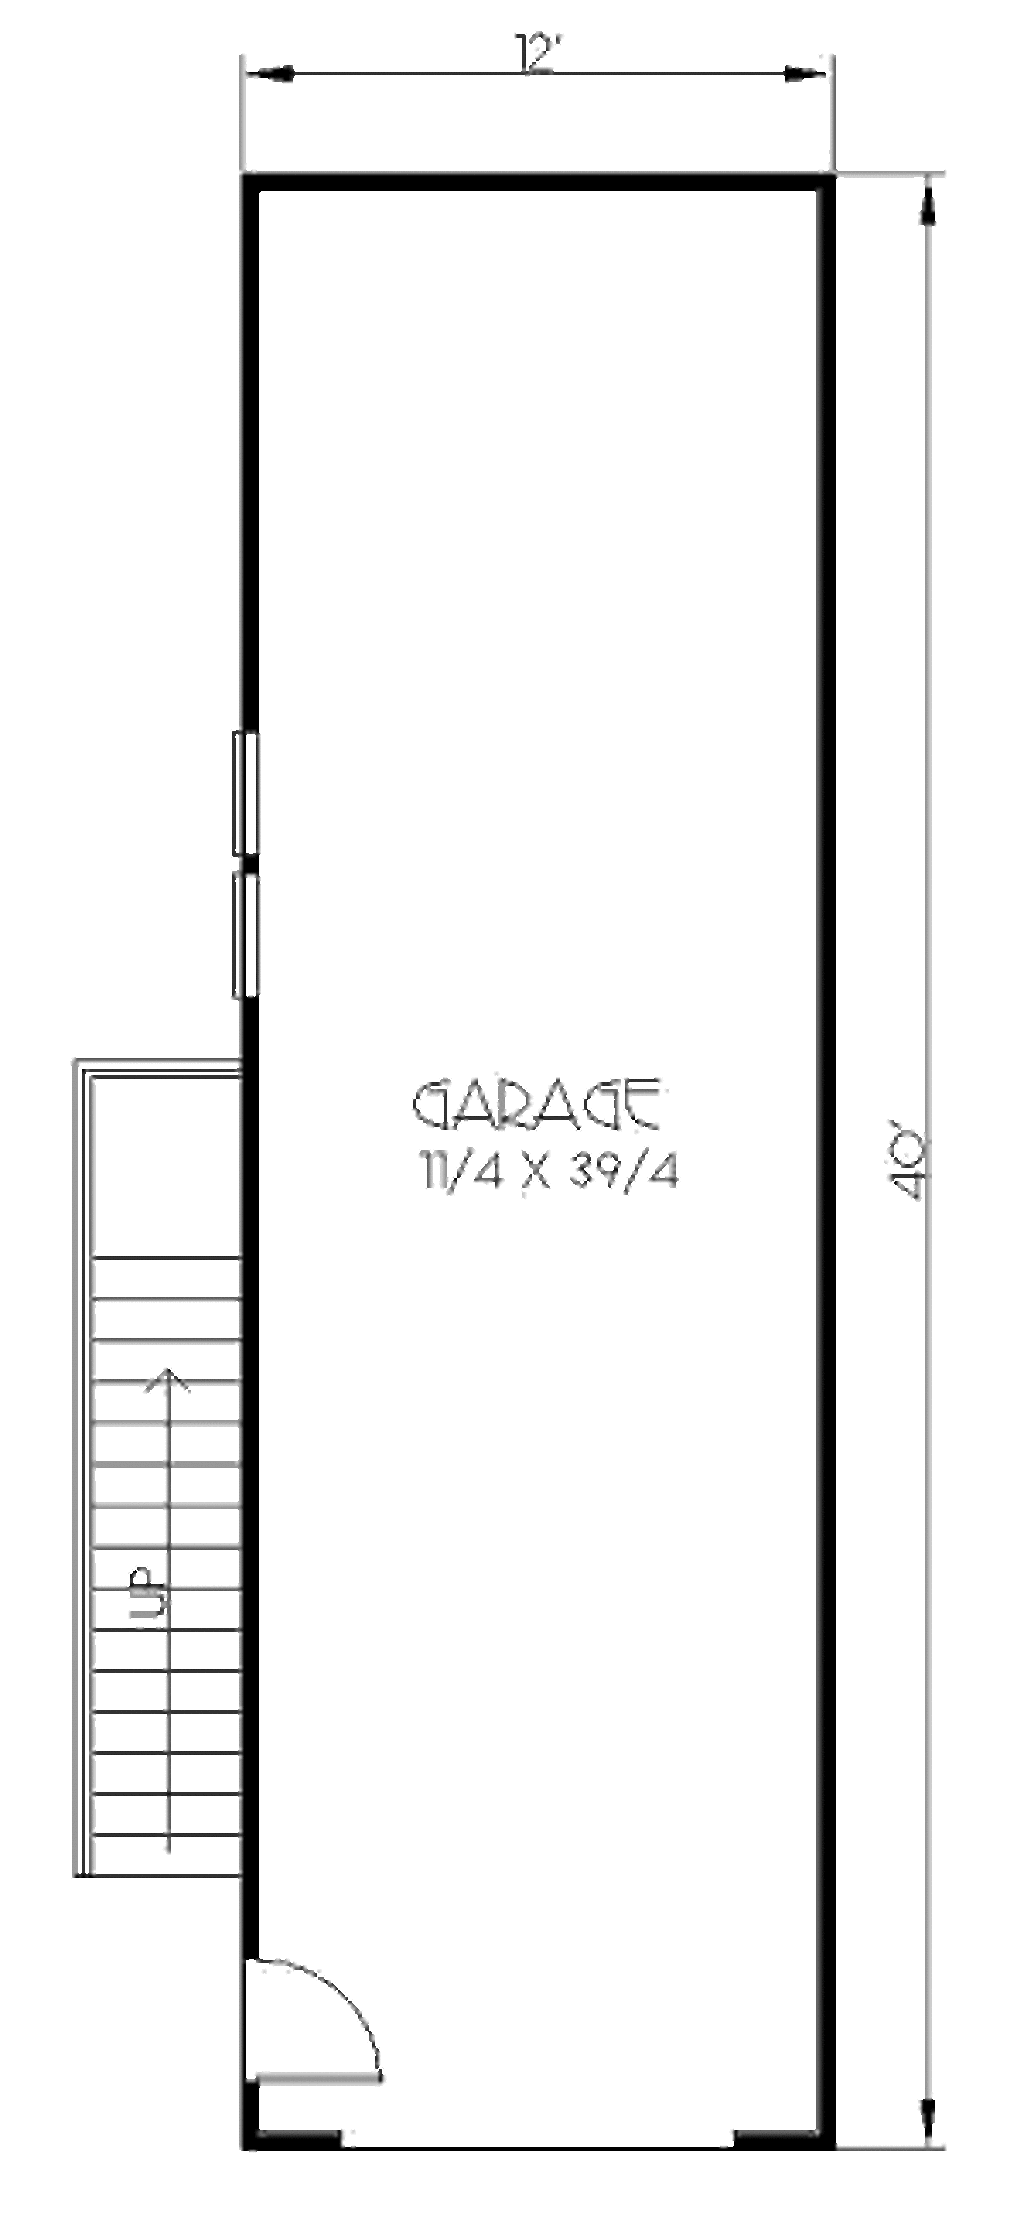door: (245, 1940, 403, 2109)
stairs: (51, 1061, 281, 1885)
window: (226, 716, 267, 860), (238, 865, 250, 1006)
